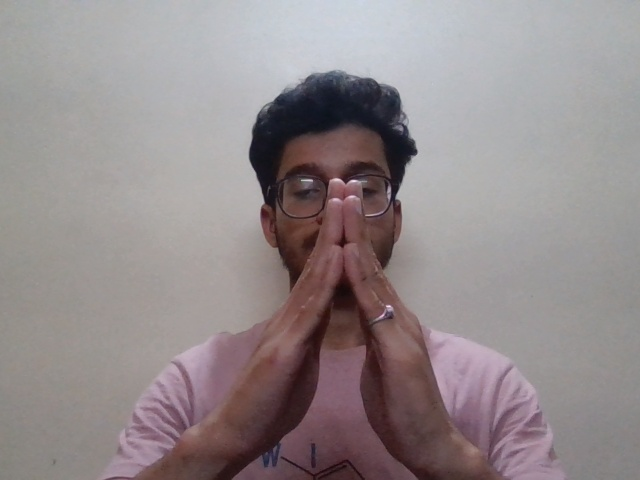home: (222, 179, 470, 444)
